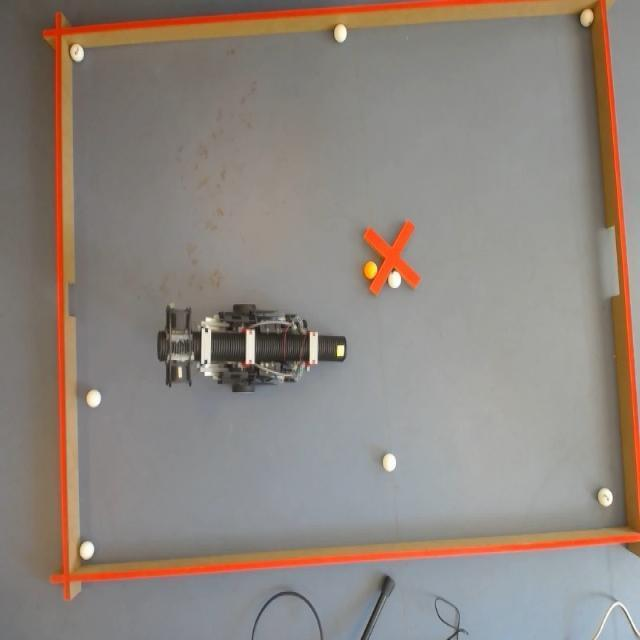orange: (365, 262, 378, 280)
robot: (164, 307, 336, 400)
white: (81, 540, 94, 562), (382, 452, 396, 472), (580, 8, 594, 28), (597, 488, 611, 507), (88, 390, 101, 410), (390, 268, 401, 290), (334, 23, 347, 41), (70, 45, 82, 63)
